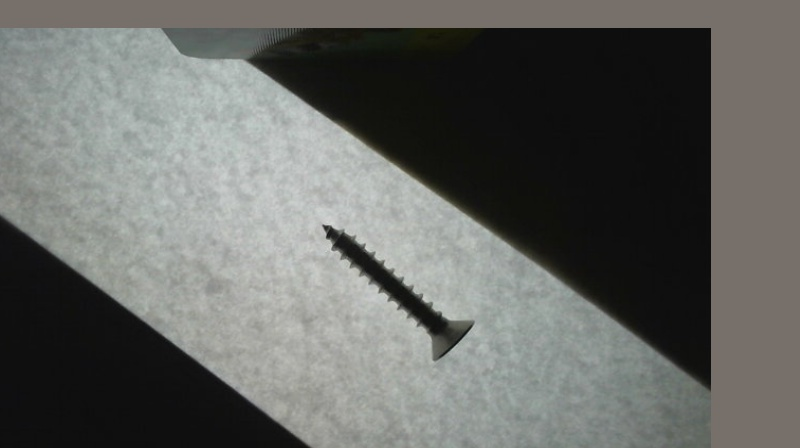S001: (317, 220, 476, 361)
